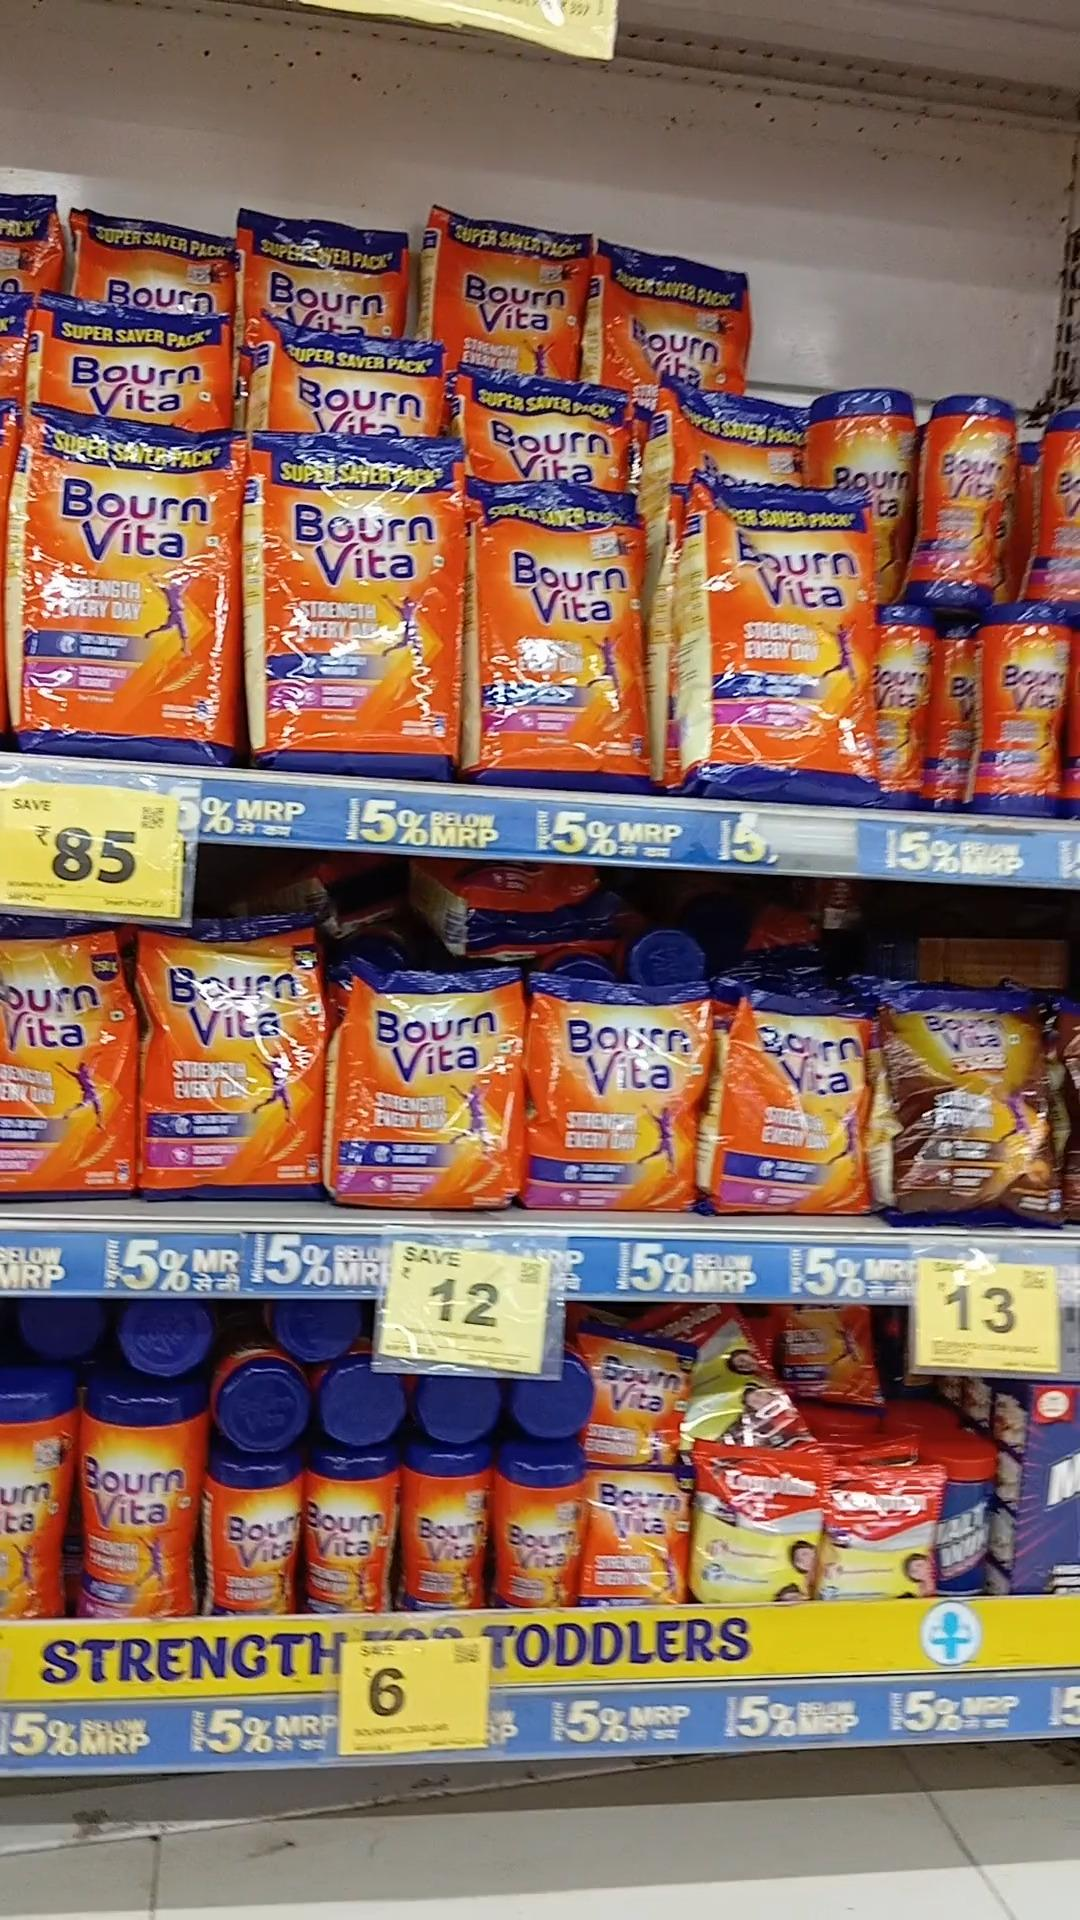BOURN_VITA_1_KG_POUCH: (17, 422, 235, 765), (251, 430, 451, 771), (688, 472, 877, 802), (469, 473, 650, 786)
BOURN_VITA_200_G_JAR: (303, 1448, 396, 1614), (493, 1440, 583, 1607), (207, 1457, 297, 1617), (404, 1443, 485, 1607)
BOURN_VITA_500_G_JAR: (84, 1379, 200, 1618), (918, 389, 1007, 609), (973, 616, 1062, 822)
BOURN_VITA_500_G_POUCH: (342, 959, 520, 1215), (526, 971, 695, 1209), (708, 980, 861, 1218)
BOURN_VITA_750_G_POUCH: (145, 923, 320, 1205), (1, 922, 136, 1196)
BOURN_VITA_75_G_POUCH: (589, 1468, 690, 1607), (591, 1331, 682, 1461)
BOURN_VITA_FIVE_STAR_MAGIC_500_G_POUCH: (878, 984, 1060, 1226)
